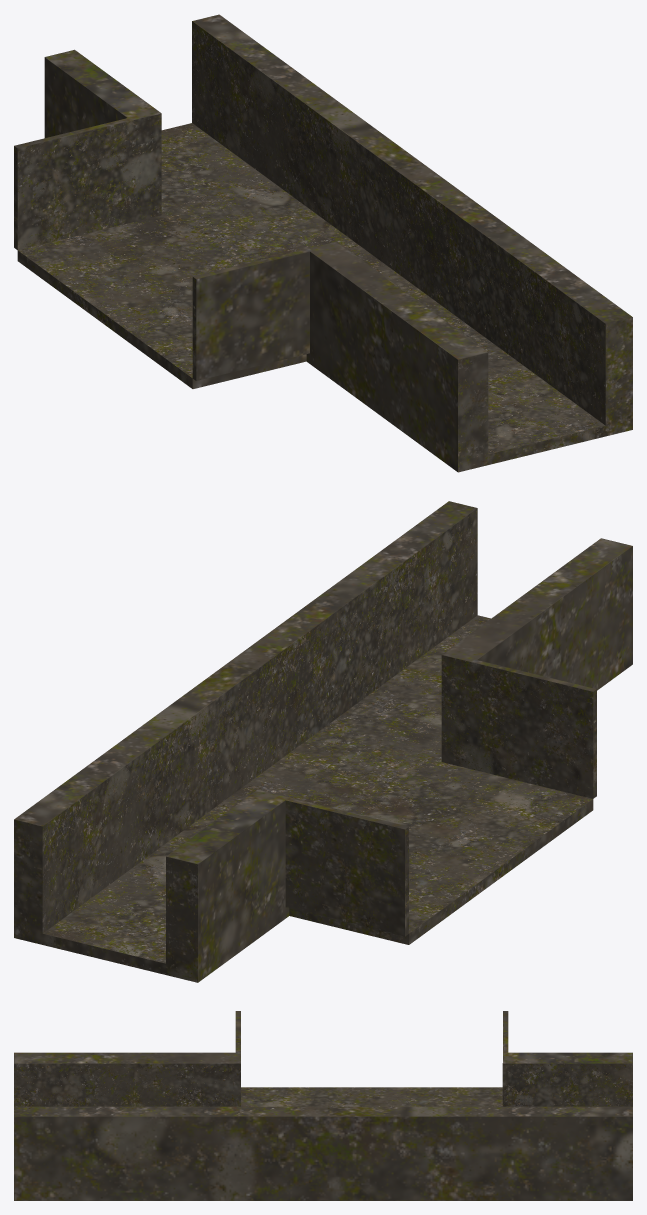
Rendered from Room1.fbx.
3 renders of one model, top to bottom at view 1: azimuth 30°, elevation 25°; view 2: azimuth 150°, elevation 25°; view 3: azimuth 270°, elevation 25°, orthographic. The views are drawn at different scales.
Parts seen in each view (by area): view 1: polySurface14; view 2: polySurface14; view 3: polySurface14.
Boxes of the visible parts, <box> form: polySurface14: <box>14,14,632,472</box>; polySurface14: <box>14,501,632,982</box>; polySurface14: <box>14,1011,632,1200</box>.
Bounding box in the file's own units: 1390 × 518 × 3450.
Materials: 1 (1 with a texture image).
